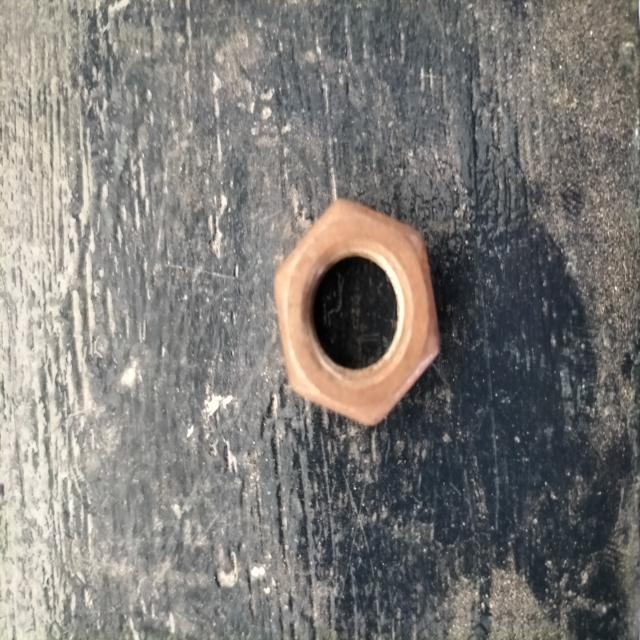nuts: (275, 199, 439, 426)
